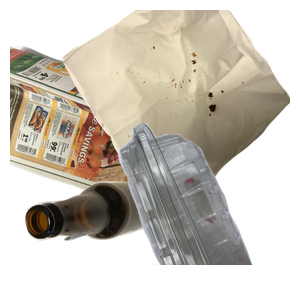glass: (23, 179, 183, 300)
paper: (10, 42, 224, 222)
plastic: (71, 120, 300, 300)
trash: (60, 10, 300, 190)
